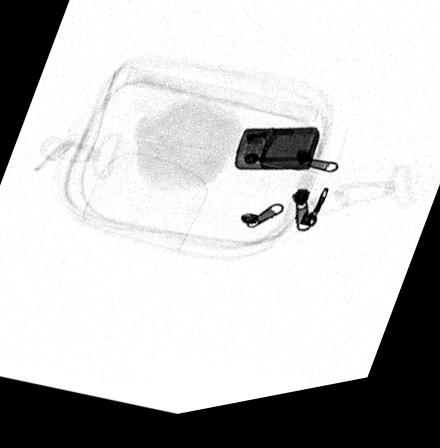Lighter: (233, 136, 320, 182)
